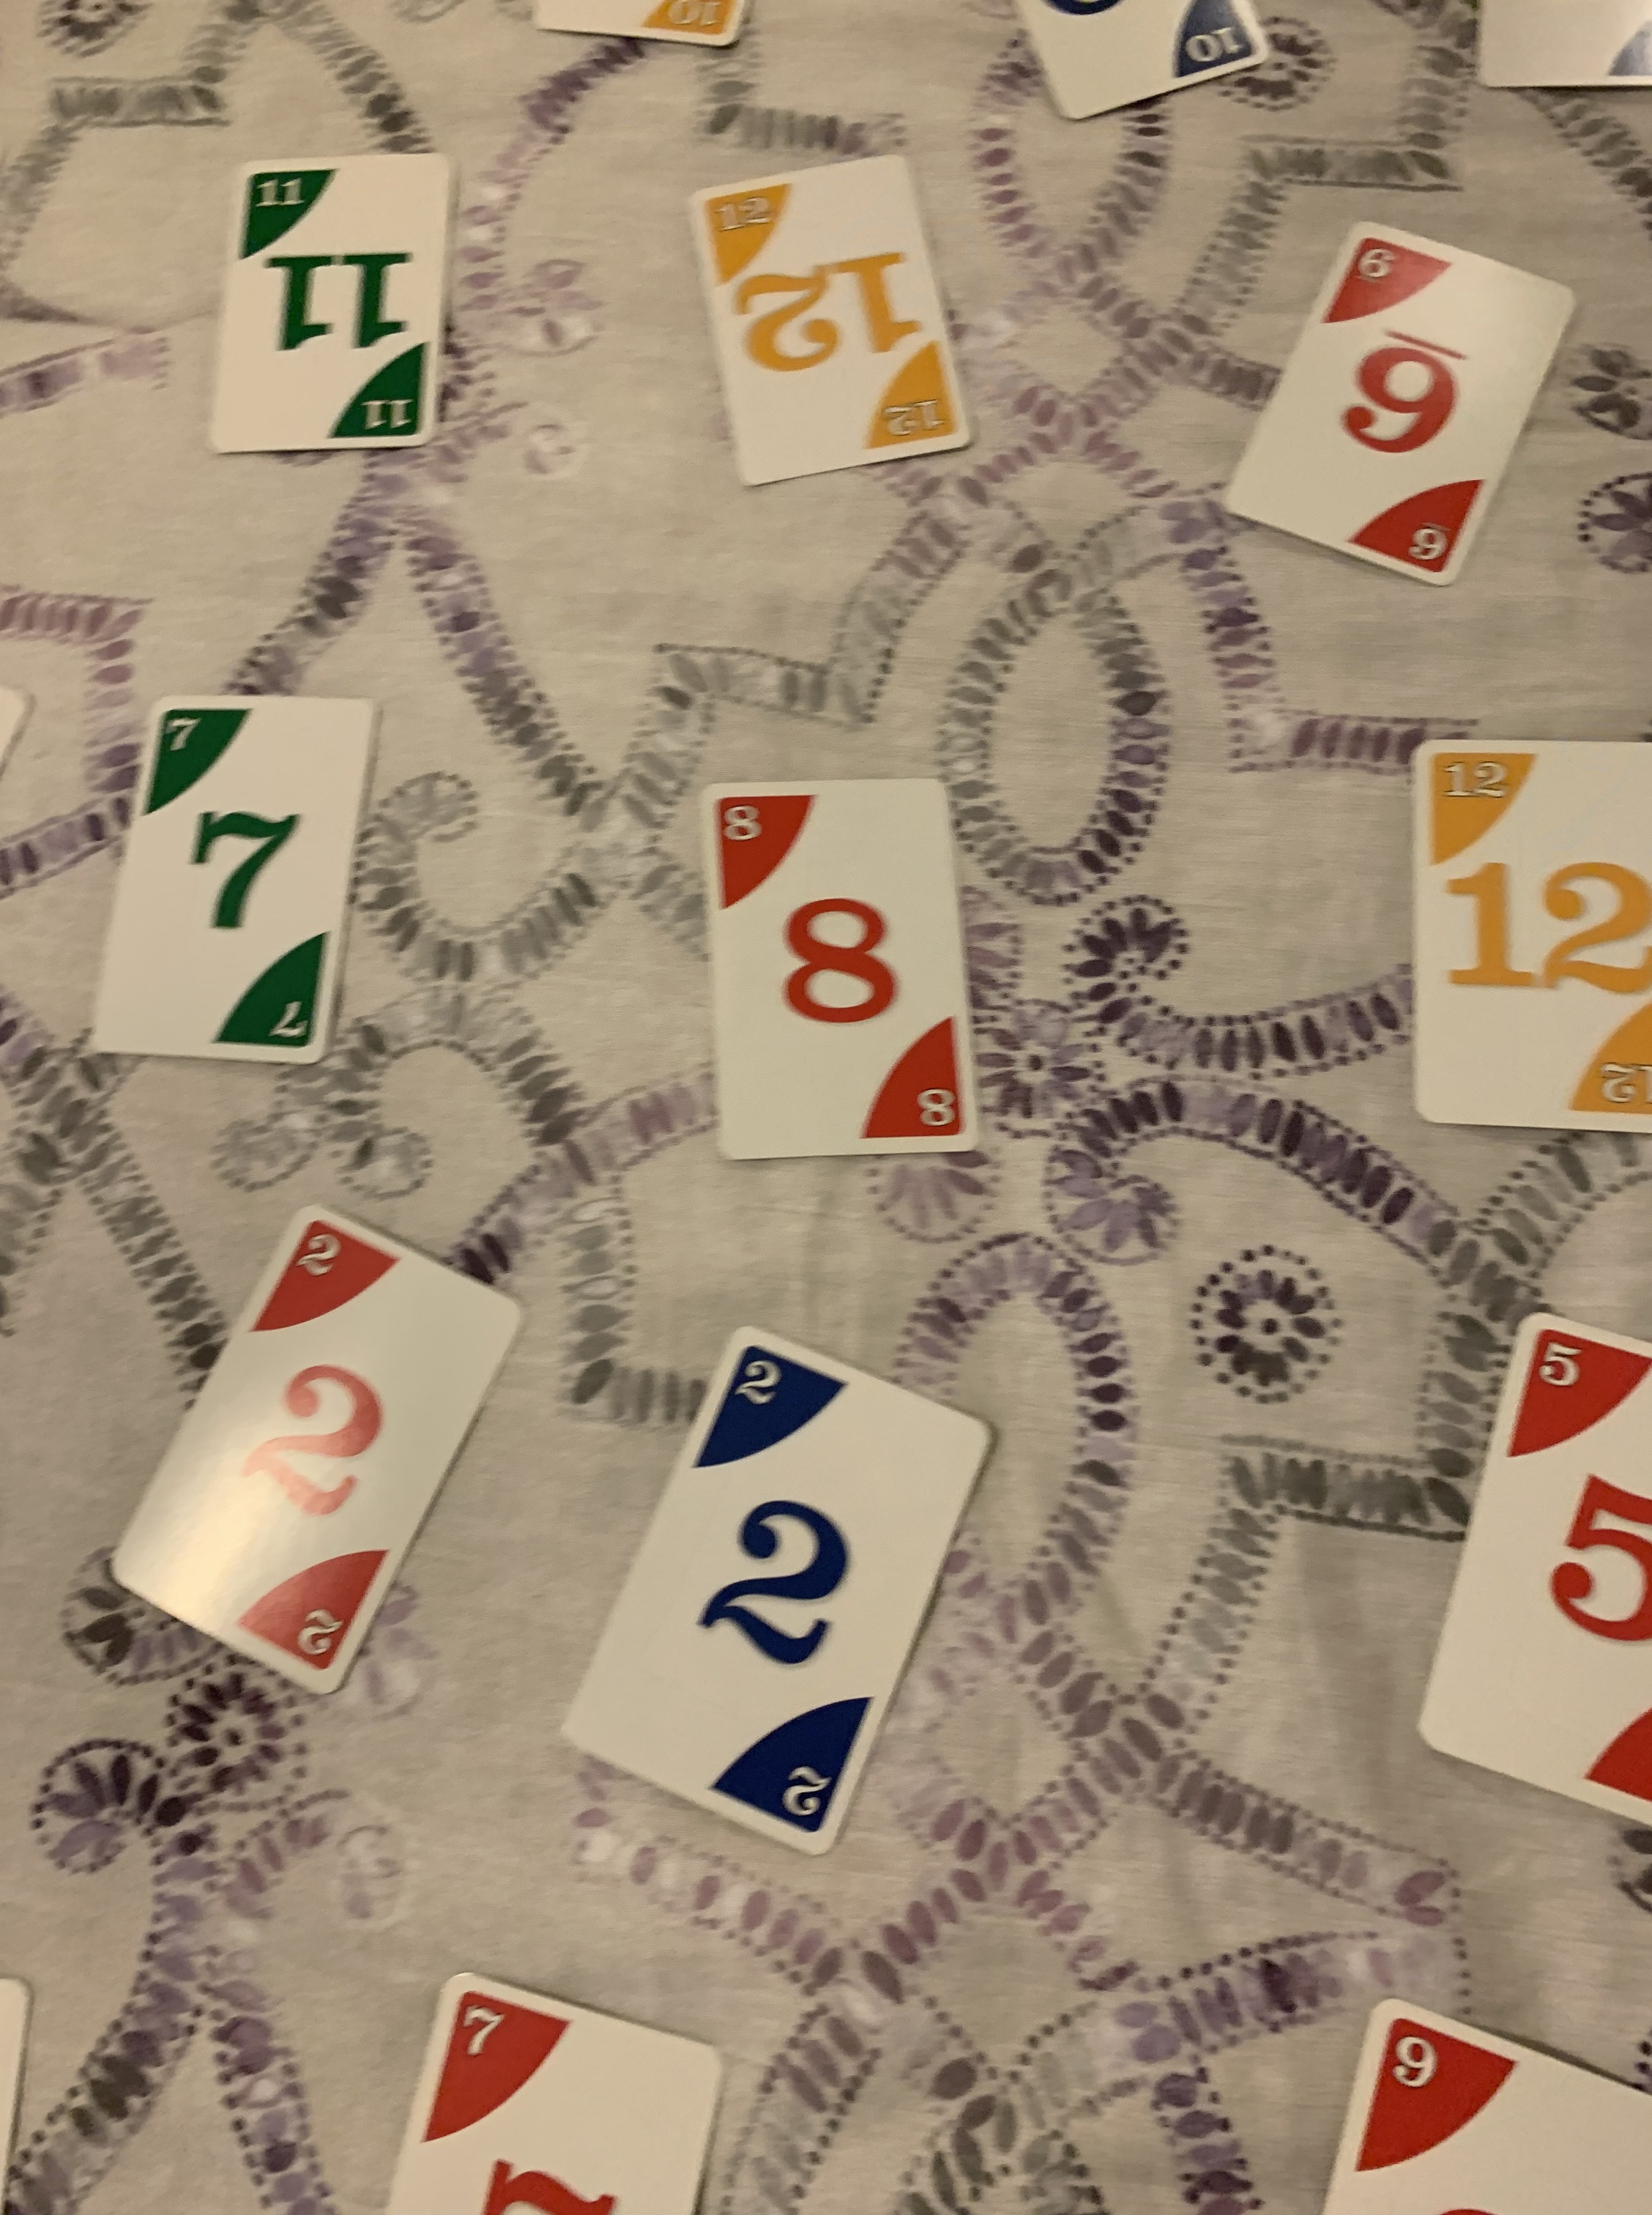eight: (685, 767, 991, 1165)
eleven: (205, 146, 458, 463)
five: (1404, 1309, 1645, 1844)
seven: (85, 696, 380, 1071)
six: (1220, 219, 1579, 585)
twelve: (1402, 734, 1652, 1135), (685, 151, 972, 488)
two: (562, 1319, 994, 1857), (94, 1203, 534, 1708)
